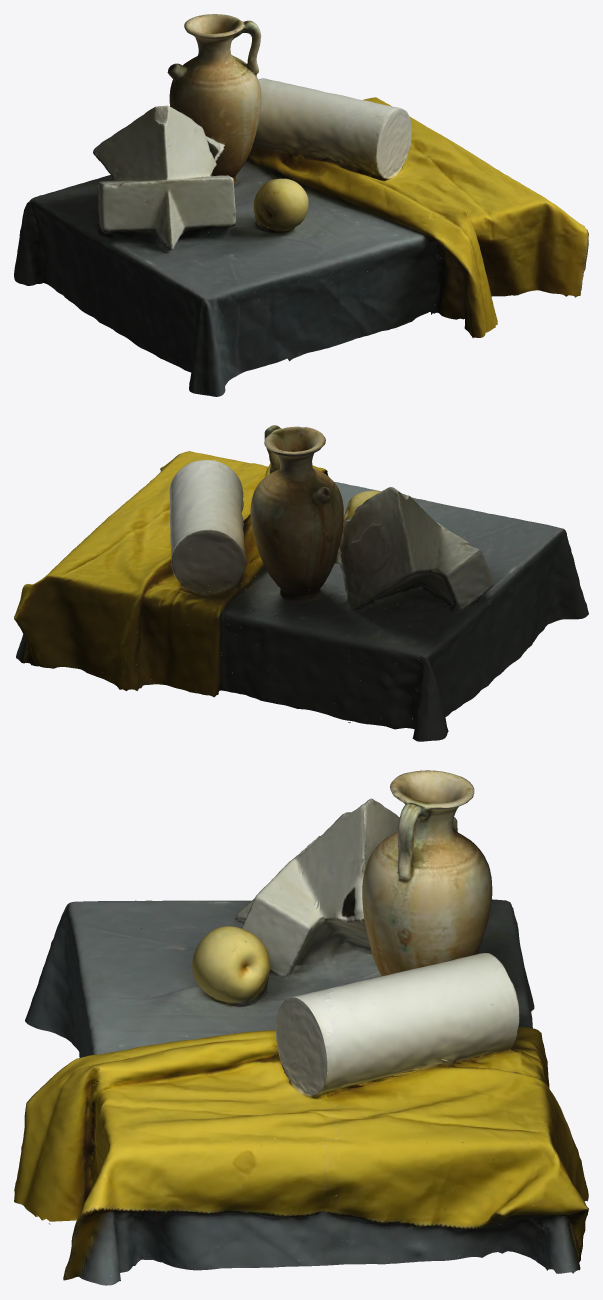
File: 静物_其它_陶罐几何体水果01_opt.glb
3 renders of one model, top to bottom at view 1: azimuth 30°, elevation 25°; view 2: azimuth 150°, elevation 25°; view 3: azimuth 270°, elevation 25°, orthographic. The views are drawn at different scales.
Visible parts, largest first — view 1: defaultMat, defaultMat_1; view 2: defaultMat, defaultMat_1; view 3: defaultMat, defaultMat_1.
Part boxes in pixels (x1,y1,x2,y2): defaultMat: [14, 14, 588, 396]; defaultMat_1: [27, 14, 580, 360]; defaultMat: [14, 425, 588, 741]; defaultMat_1: [14, 427, 557, 729]; defaultMat: [14, 770, 588, 1285]; defaultMat_1: [20, 779, 587, 1285].
Size of the model in its own units: 0.5593 by 0.3 by 0.4639.
Materials: 1 (1 with a texture image).
